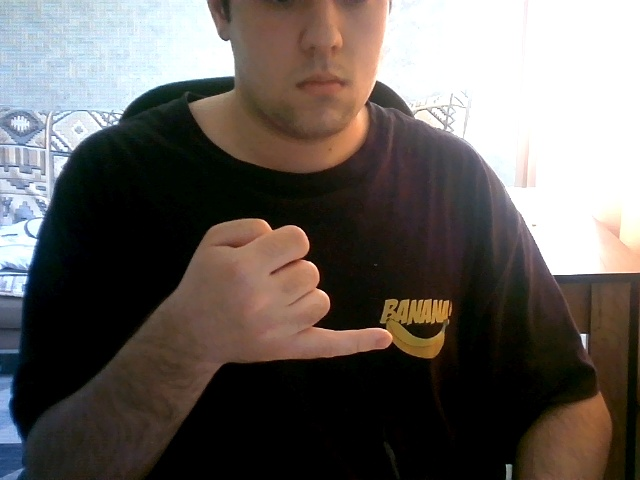bad: (147, 179, 403, 383)
